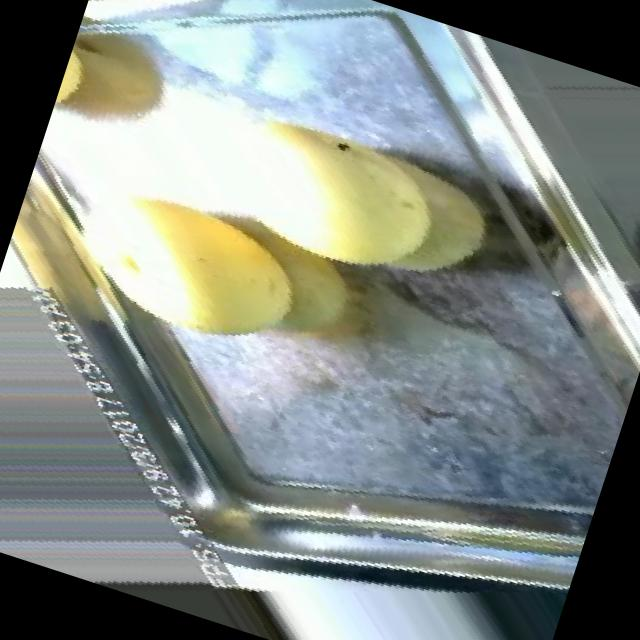Fruit: (208, 63, 499, 323), (66, 154, 336, 388), (42, 0, 204, 177)
